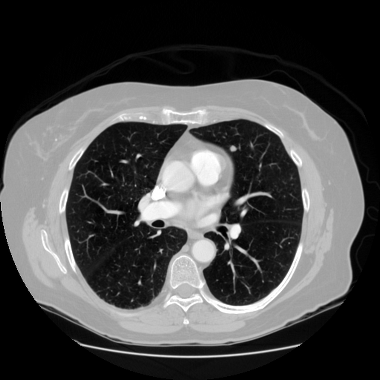nodule: (229, 144, 237, 152)
